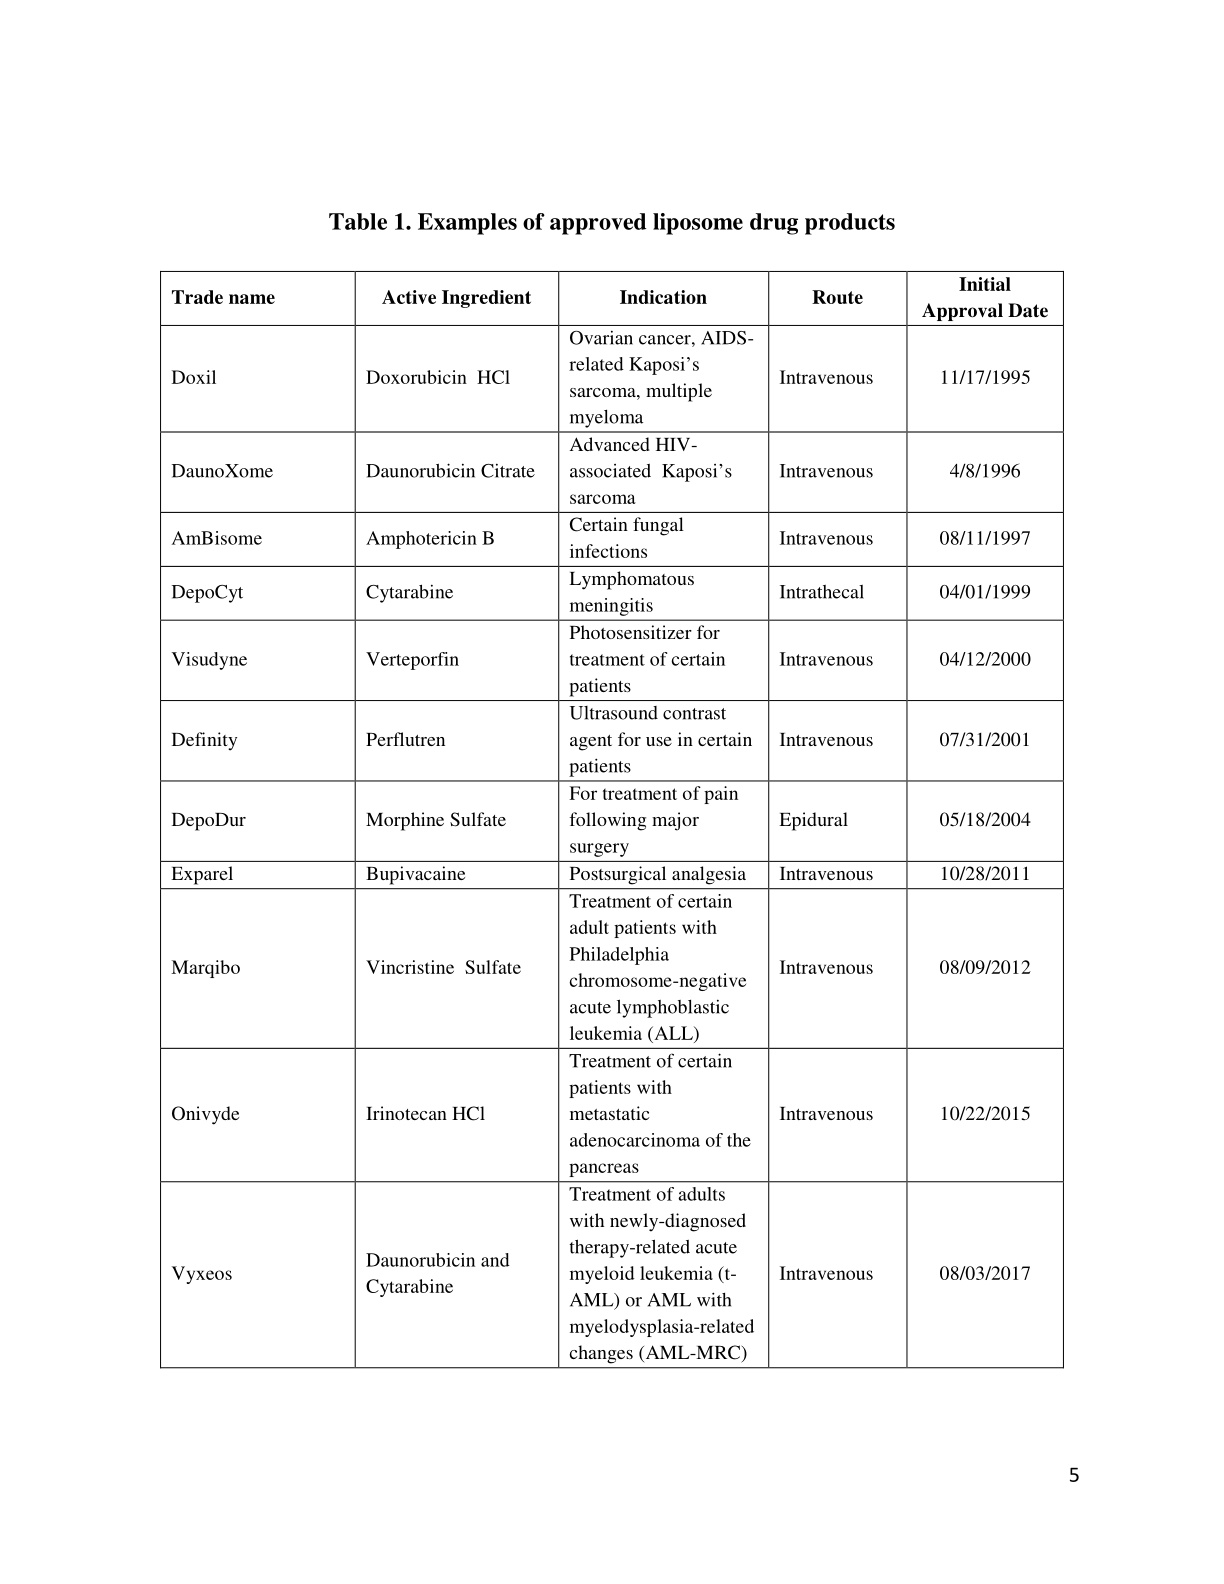full_lined: (158, 270, 1065, 1369)
